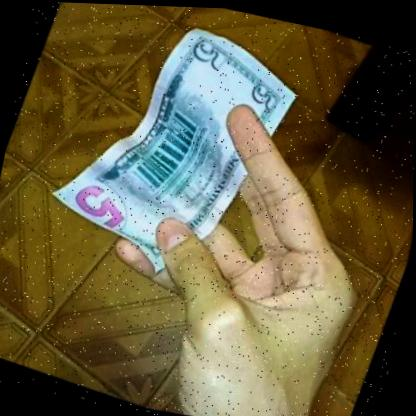five-back: (26, 1, 318, 317)
